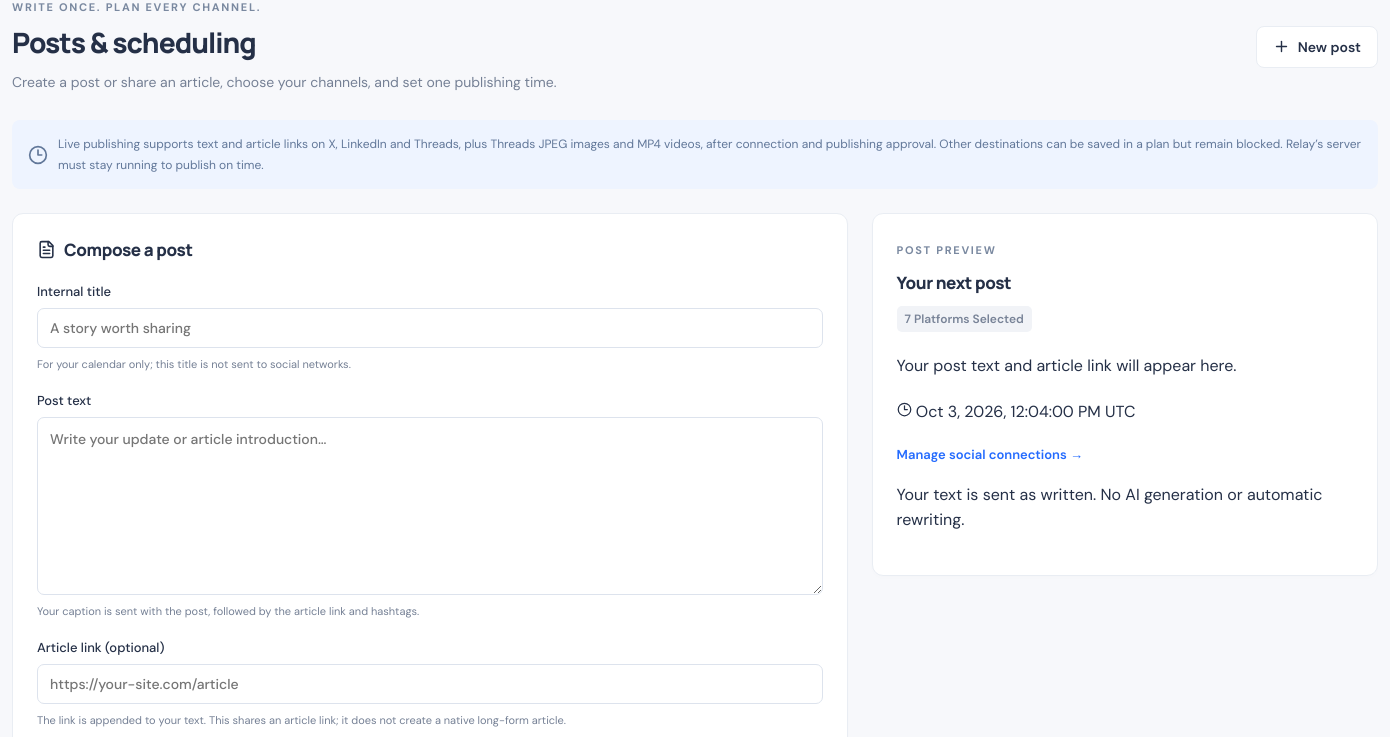
Scenario: makes a blocked plan visibly different from a successful schedule
Expected: the text "Live publishing supports text" is shown, [58,136,1283,152]
Type "Our update" into the text box labelled "Post text".
click(430, 506); type("Our update")  # box [37,417,823,595]
(page scrolled)
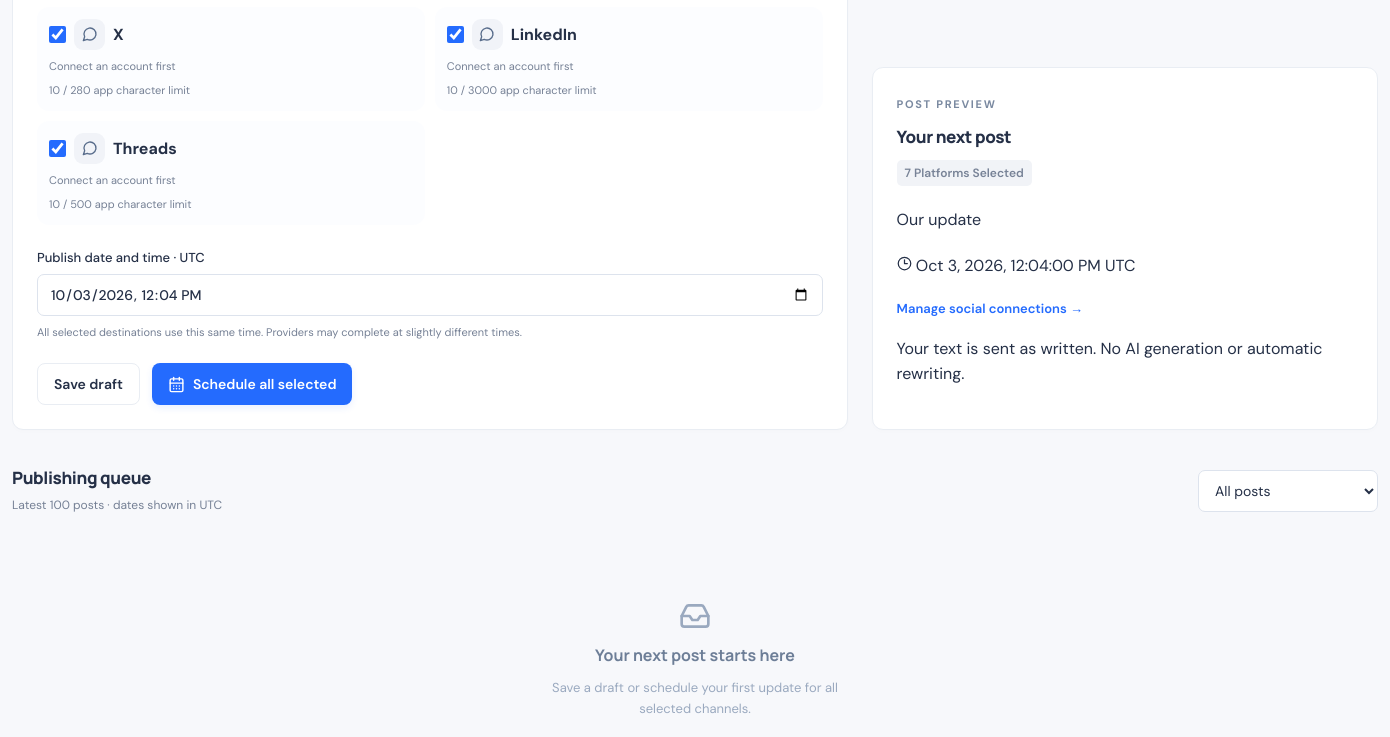
Click the button "Schedule all selected".
click(252, 384)  # box [152,363,352,405]
(page scrolled)
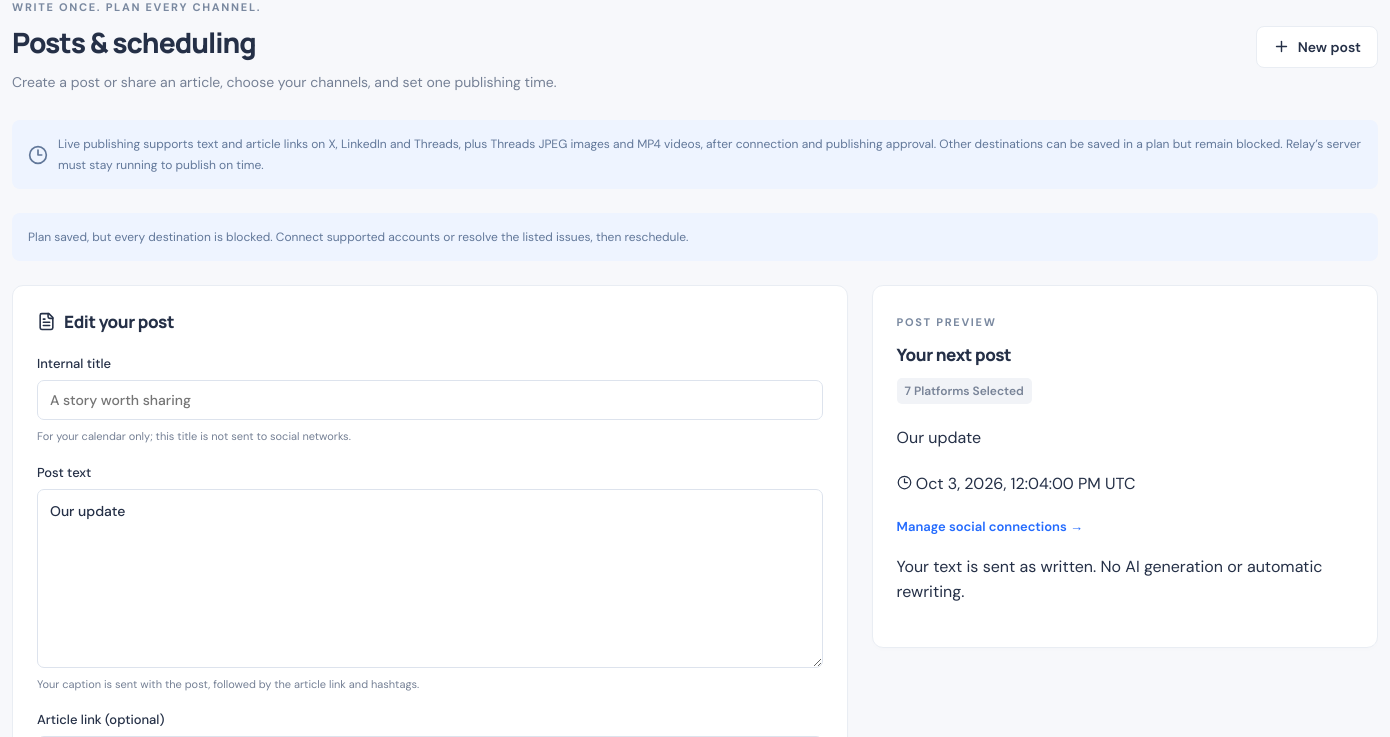
Expected: the message shows "every destination is blocked", [28,229,688,245]
